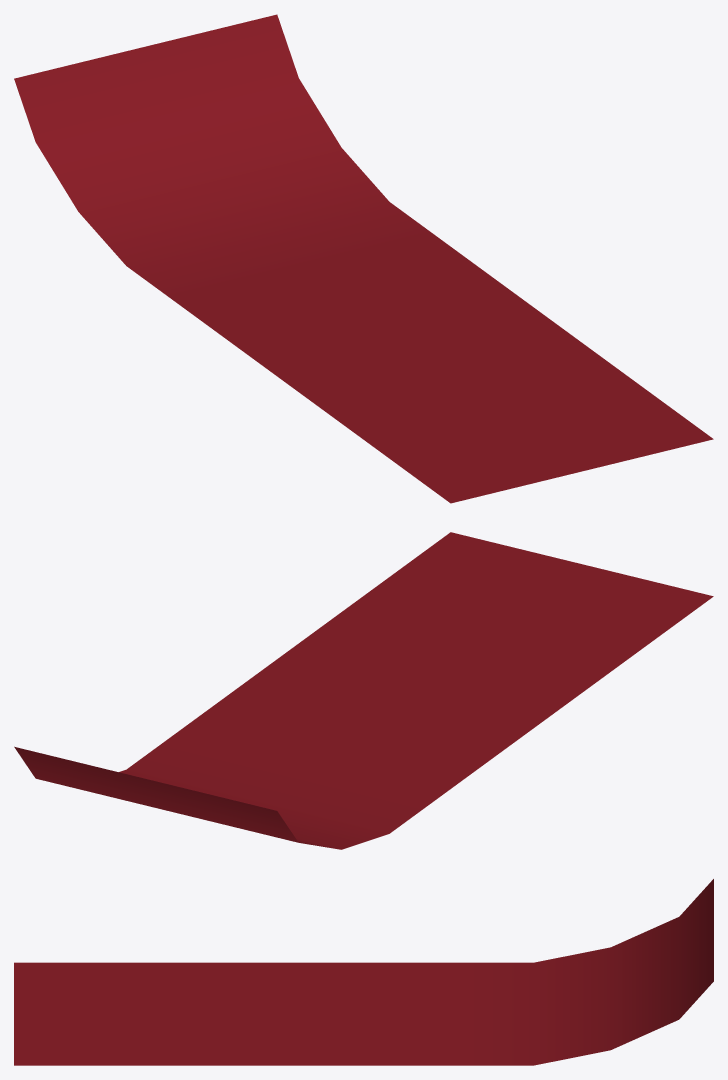
File: Bookmarks.fbx
3 renders of one model, top to bottom at view 1: azimuth 30°, elevation 25°; view 2: azimuth 150°, elevation 25°; view 3: azimuth 270°, elevation 25°, orthographic. The views are drawn at different scales.
Parts seen in each view (by area): view 1: Plane.002; view 2: Plane.002; view 3: Plane.002.
Part boxes in pixels (x1=…): Plane.002: x1=14, y1=14, x2=713, y2=503; Plane.002: x1=14, y1=532, x2=713, y2=849; Plane.002: x1=14, y1=879, x2=713, y2=1065.
Size of the model in its own units: 28.82 by 11 by 82.82.
